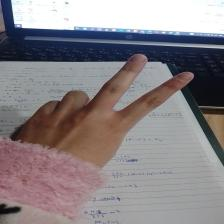two: (8, 52, 200, 186)
